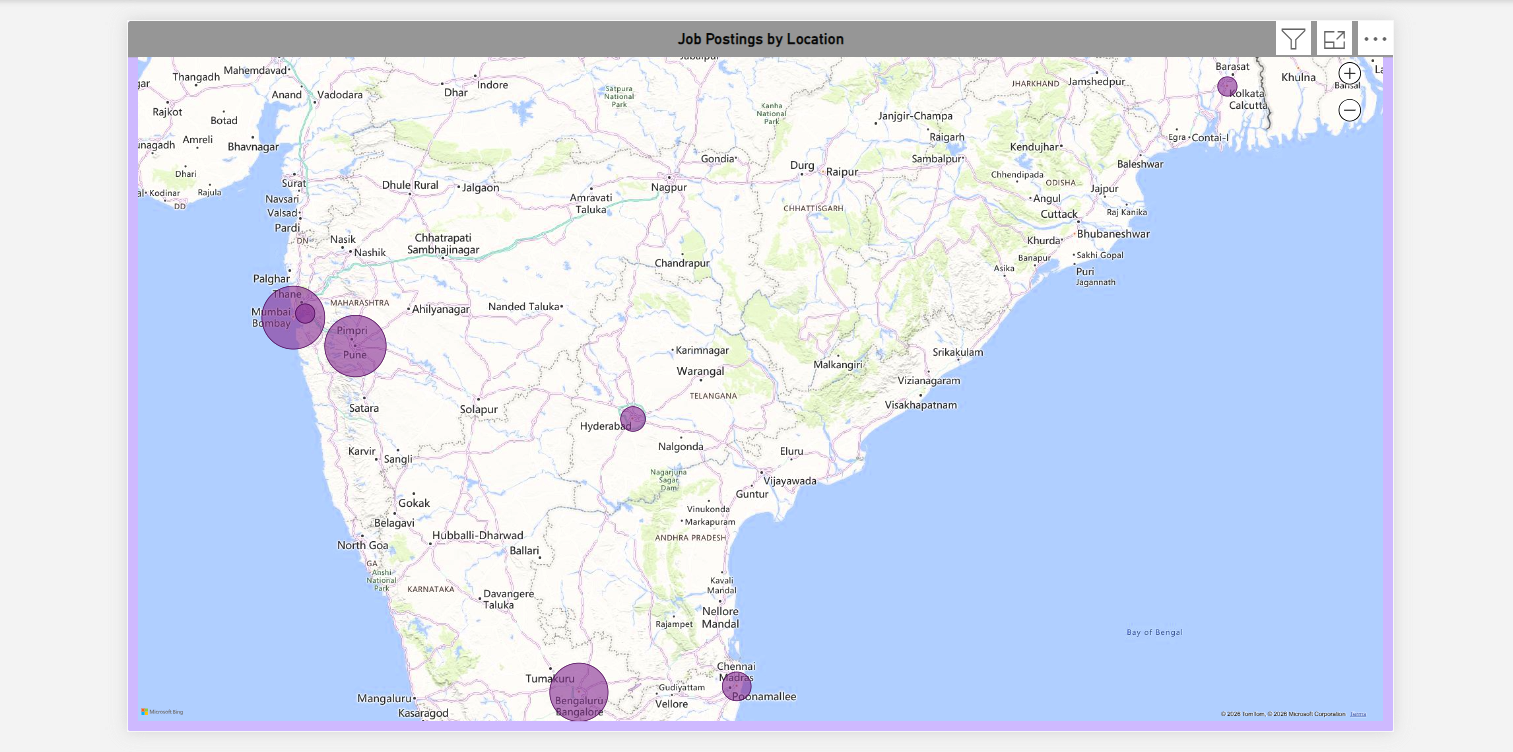

Layout of this report page (visuals, bound fields, positions):
{"tool":"powerbi","page":{"name":"Project","canvas":[1920,1080],"ordinal":59},"visuals":[{"type":"map","title":"Job Postings by Location","fields":{"Category":["job_marketanalysis.Location"],"Size":["Count(job_marketanalysis.Job_URL)"]},"box":[0,0,1920,1080],"z":0}]}

Visuals, with their boxes on the page's 1920x1080 design canvas (x1, y1, x2, y2). These are canvas units, not pixel positions in the 1513x752 screenshot, which may show the page scaled, cropped or inside an application window:
"Job Postings by Location" map: (0, 0, 1920, 1080)
